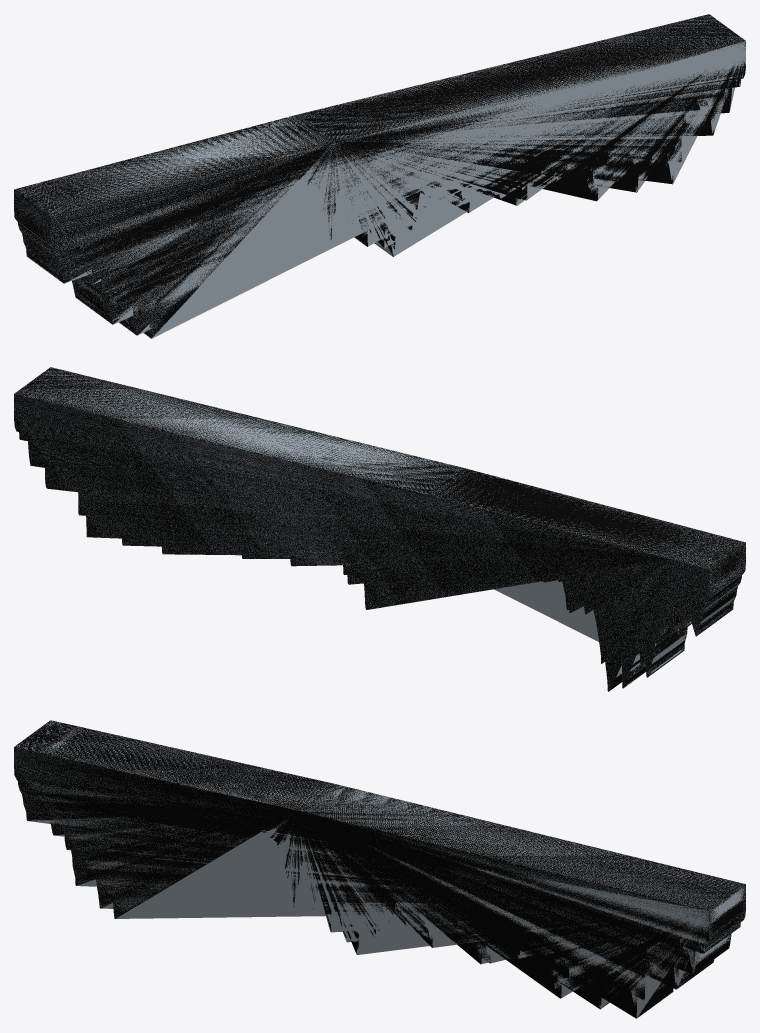
File: top5.fbx
3 views of the same model, one above another, from view 1: azimuth 30°, elevation 25°; view 2: azimuth 150°, elevation 25°; view 3: azimuth 330°, elevation 25° (orthographic).
Visible parts, largest first — view 1: Group1; view 2: Group1; view 3: Group1.
Boxes of the visible parts, left/top/right/bottom form: Group1: left=14, top=14, right=745, bottom=338; Group1: left=14, top=367, right=745, bottom=691; Group1: left=14, top=720, right=745, bottom=1018.
Size of the model in its own units: 21962 by 4618 by 2000.
